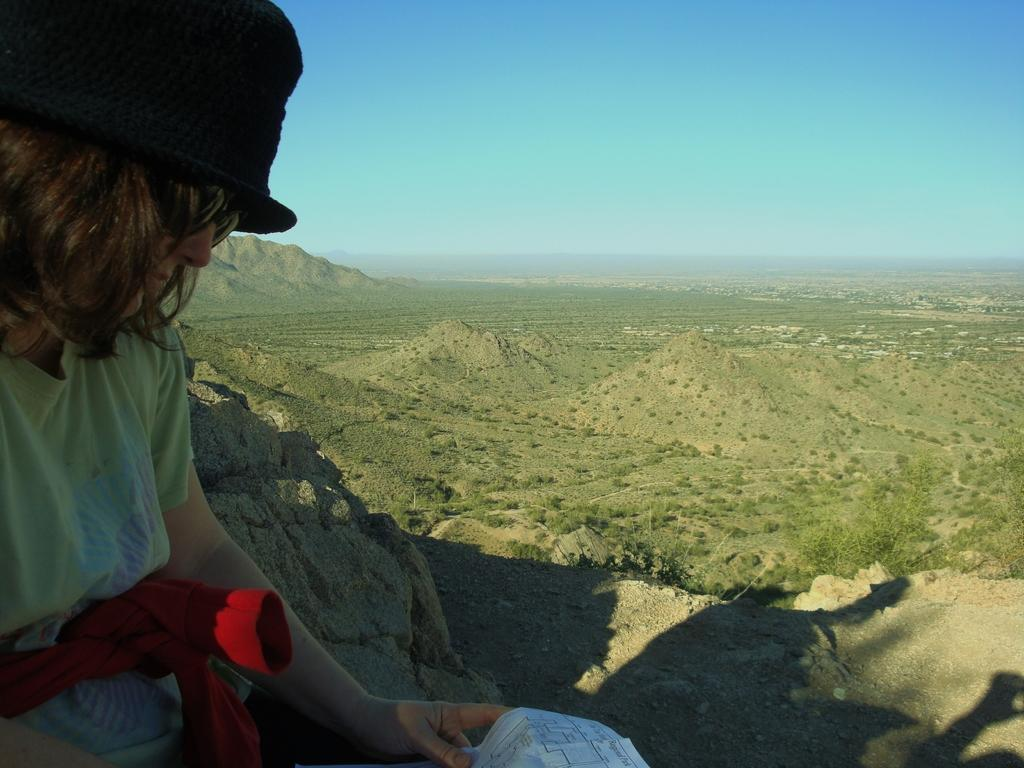Hat: (0, 0, 294, 236)
